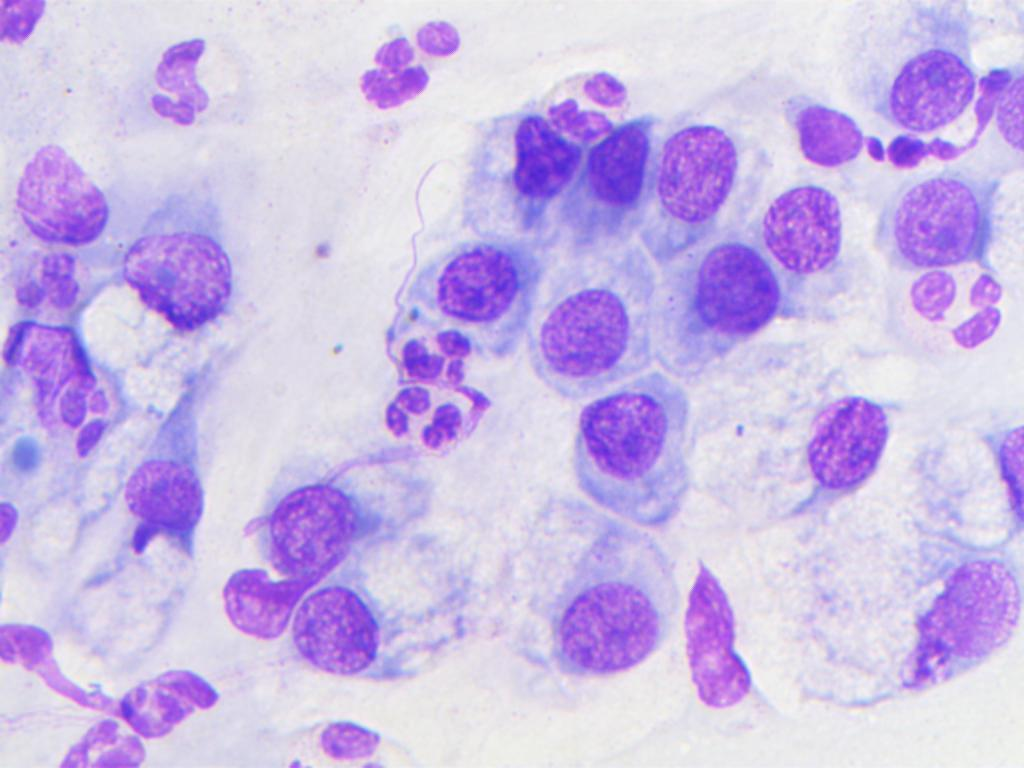artifact: (678, 553, 758, 719), (861, 132, 982, 170), (978, 64, 1007, 149)
epithelial: (568, 373, 714, 536), (537, 526, 677, 687), (724, 380, 900, 499), (266, 470, 441, 576), (453, 101, 574, 237), (871, 169, 1023, 267), (405, 239, 535, 331), (875, 17, 977, 134), (532, 284, 641, 387), (684, 236, 781, 348), (653, 112, 742, 226), (770, 80, 864, 180), (572, 126, 653, 237), (758, 180, 850, 274), (217, 564, 292, 643)
goblet_cell: (857, 544, 1024, 710), (108, 216, 236, 368), (118, 368, 214, 554), (291, 581, 470, 676), (937, 406, 1024, 556), (10, 140, 112, 242)
neutrophil: (342, 10, 485, 106), (897, 260, 1024, 358), (141, 30, 230, 137), (118, 661, 229, 741), (382, 373, 476, 465), (536, 67, 634, 151), (36, 702, 150, 768), (17, 240, 100, 330), (383, 317, 487, 388), (51, 378, 116, 458)
